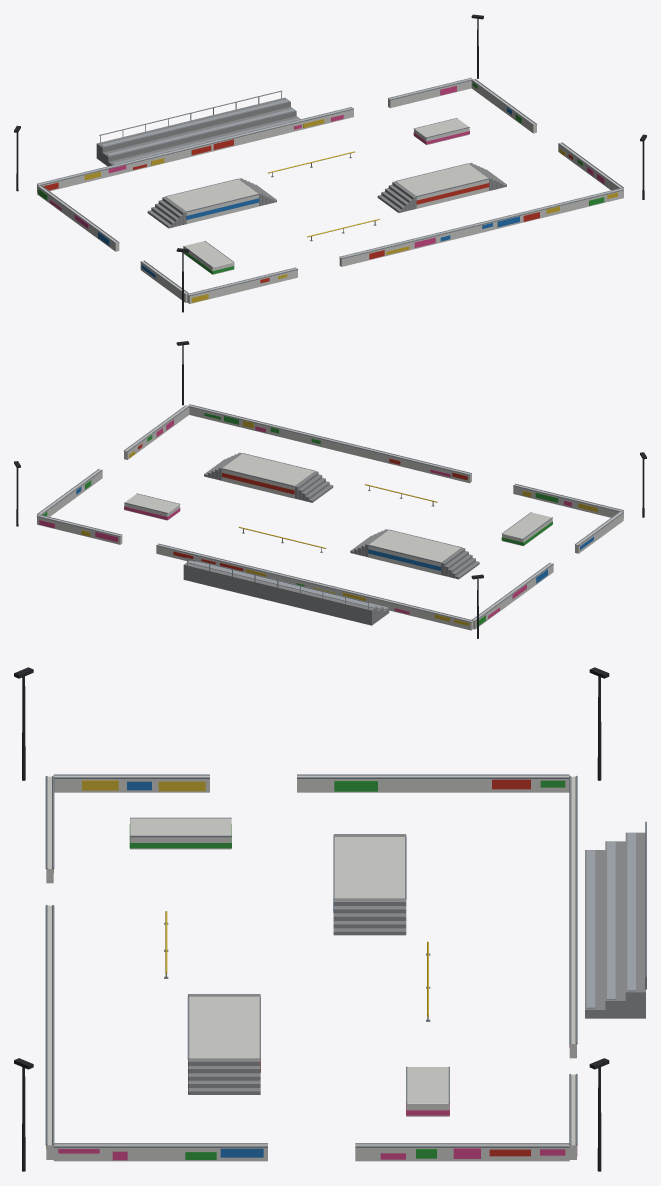
File: tf-skate.glb
3 renders of one model, top to bottom at view 1: azimuth 30°, elevation 25°; view 2: azimuth 150°, elevation 25°; view 3: azimuth 270°, elevation 25°, orthographic. The views are drawn at different scales.
Parts seen in each view (by area): view 1: tf-skate; view 2: tf-skate; view 3: tf-skate.
Boxes of the visible parts, x1=… form: tf-skate: x1=14, y1=14, x2=646, y2=312; tf-skate: x1=14, y1=341, x2=646, y2=638; tf-skate: x1=14, y1=667, x2=646, y2=1171.
Size of the model in its own units: 64.94 by 8.25 by 43.53.
